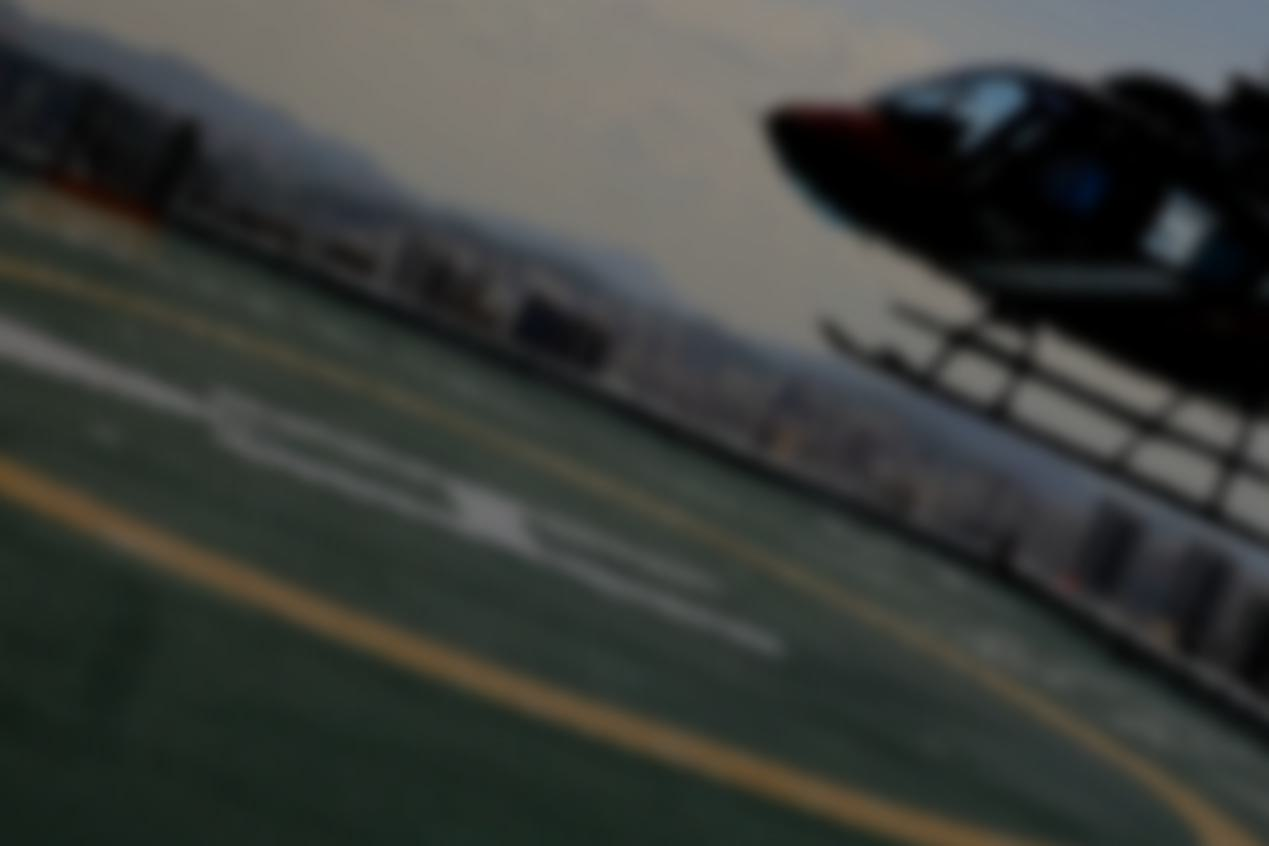Apron: (4, 228, 1263, 844)
